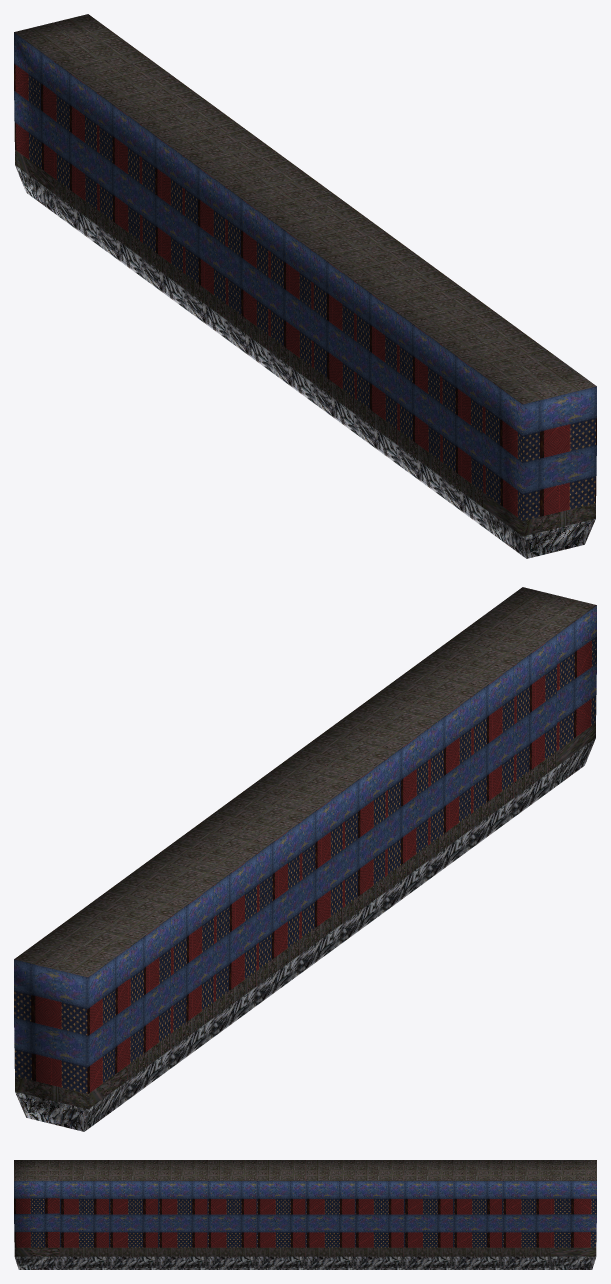
The model's file is RoomCorridor.fbx.
The picture shows the model from 3 angles, top to bottom: view 1: azimuth 30°, elevation 25°; view 2: azimuth 150°, elevation 25°; view 3: azimuth 270°, elevation 25°; orthographic projection. The views are drawn at different scales.
Parts seen in each view (by area): view 1: RoomCorridor; view 2: RoomCorridor; view 3: RoomCorridor.
Boxes of the visible parts, x1,y1,x2,y2 form: RoomCorridor: (14,14,596,558); RoomCorridor: (14,587,596,1131); RoomCorridor: (14,1160,596,1269).
Bounding box in the file's own units: 1.78 × 3.66 × 21.16.
